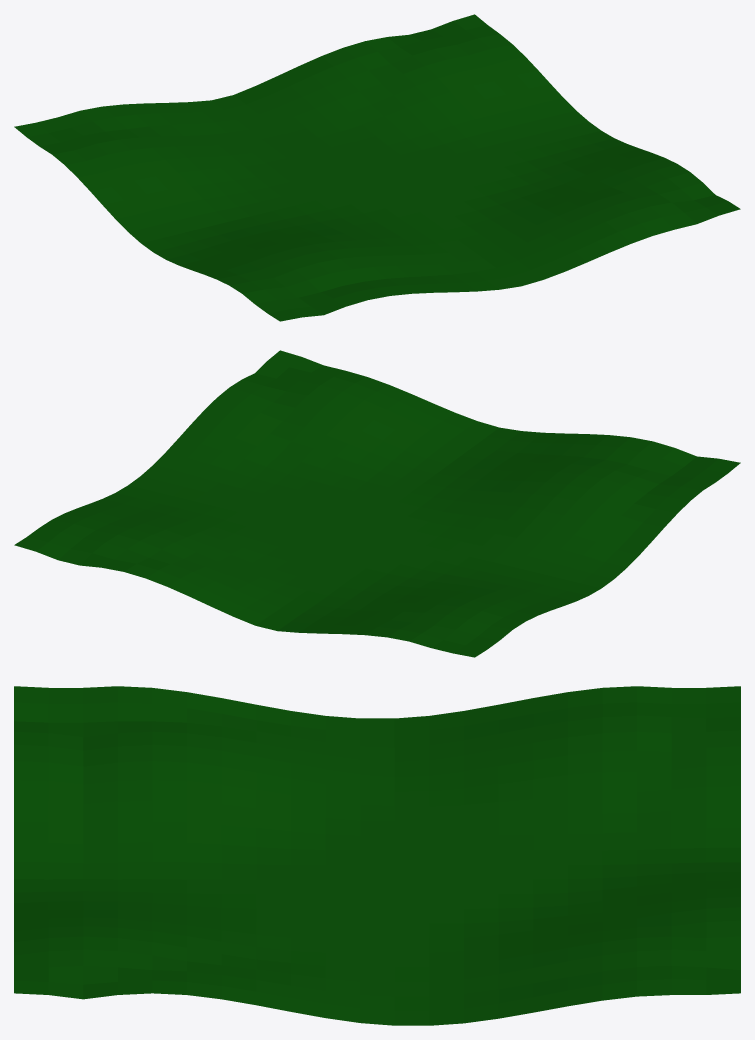
The model's file is Enviorment.fbx.
3 views of the same model, one above another, from view 1: azimuth 30°, elevation 25°; view 2: azimuth 150°, elevation 25°; view 3: azimuth 270°, elevation 25° (orthographic). The views are drawn at different scales.
Parts seen in each view (by area): view 1: Ground; view 2: Ground; view 3: Ground.
Part boxes in pixels (bbox=[...]): Ground: bbox=[14, 14, 740, 321]; Ground: bbox=[14, 350, 740, 657]; Ground: bbox=[14, 686, 740, 1025].
Size of the model in its own units: 5000 by 247 by 5000.
